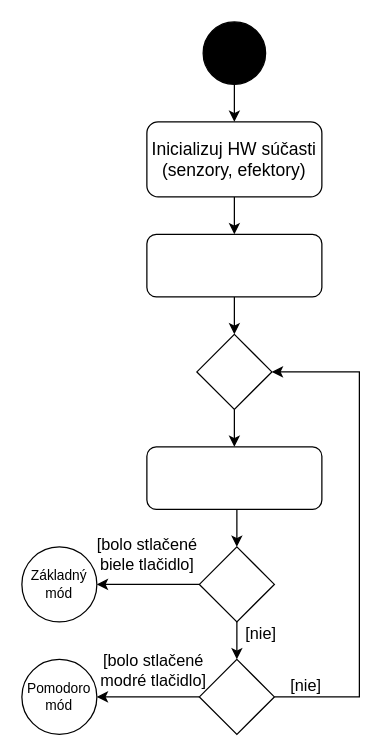
Some shapes in this 391 by 756 pixel diagram are drawn without their labels. The centre of each missing label's shape, as x and y in pixels:
"Vypíš menu na displej" goes at point (234, 477).
"Vypíš úvodný text na displej" goes at point (234, 265).
